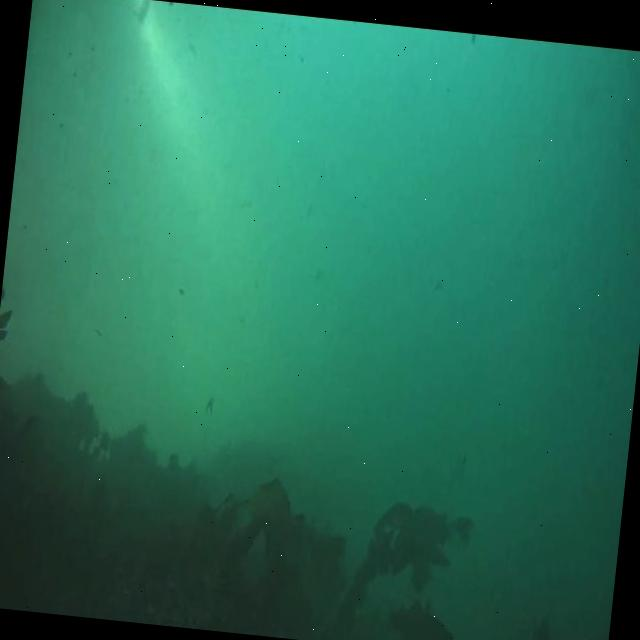fish: (384, 599, 455, 640)
